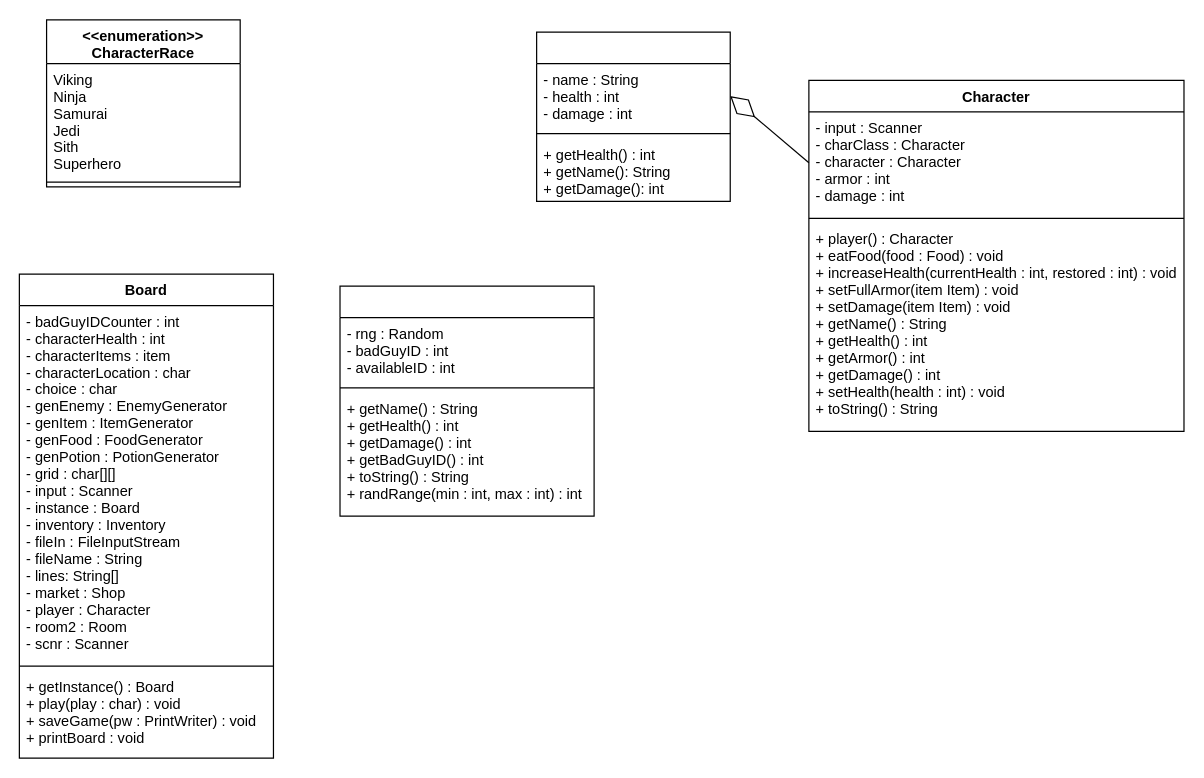
Image size: 1204x778. Some labels were removed from this diagram. The shapes that lost their labels are listed below. From the top down, each one's box as (x1, y1, x2, y2) in pixels, then its label:
(535, 31, 730, 201): Being
(339, 285, 594, 516): Enemy
